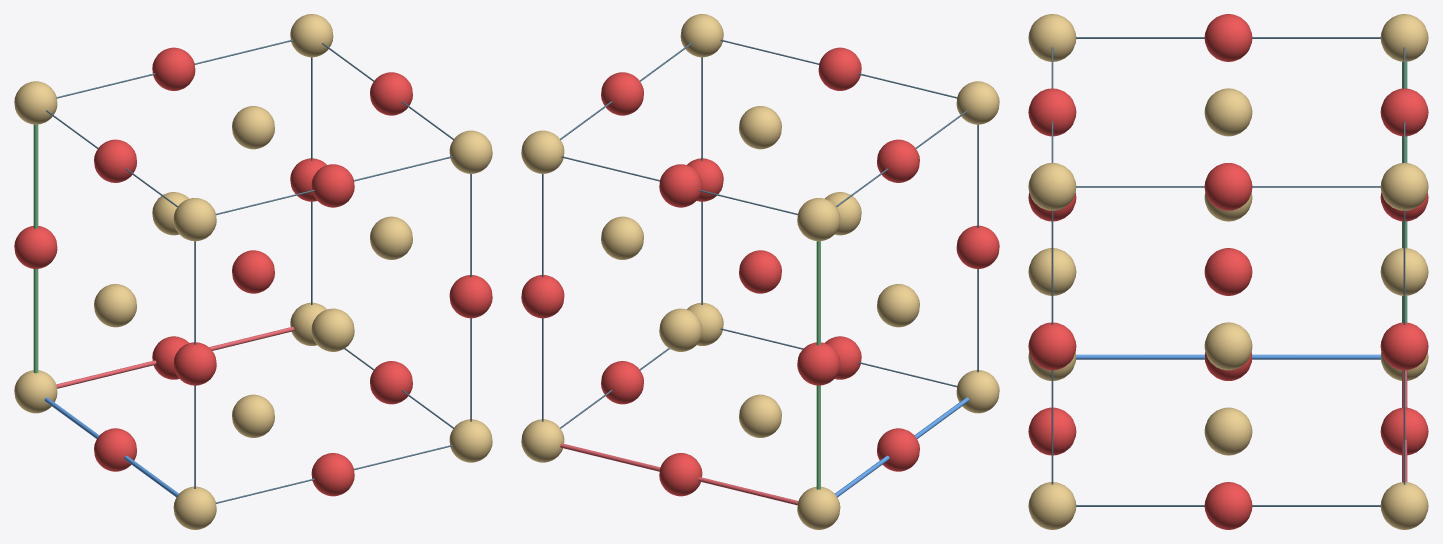
The model's file is chat-monteponite.glb.
The picture shows the model from 3 angles, left to right: view 1: azimuth 30°, elevation 25°; view 2: azimuth 150°, elevation 25°; view 3: azimuth 270°, elevation 25°; orthographic projection. The views are drawn at different scales.
Parts seen in each view (by area): view 1: Cd · Cd · 1 (×14), O · O · 1 (×13), Ô mạng và các trục a, b, c; view 2: Cd · Cd · 1 (×14), O · O · 1 (×13), Ô mạng và các trục a, b, c; view 3: Cd · Cd · 1 (×14), O · O · 1 (×13), Ô mạng và các trục a, b, c.
Boxes of the visible parts, <box> form: Cd · Cd · 1 (×14): <box>14,14,492,529</box>; O · O · 1 (×13): <box>14,47,492,496</box>; Ô mạng và các trục a, b, c: <box>33,39,471,503</box>; Cd · Cd · 1 (×14): <box>521,14,999,529</box>; O · O · 1 (×13): <box>521,47,999,496</box>; Ô mạng và các trục a, b, c: <box>542,39,978,505</box>; Cd · Cd · 1 (×14): <box>1028,14,1428,529</box>; O · O · 1 (×13): <box>1028,14,1428,529</box>; Ô mạng và các trục a, b, c: <box>1051,37,1407,506</box>.
Size of the model in its own units: 5.34 by 5.34 by 5.34.
